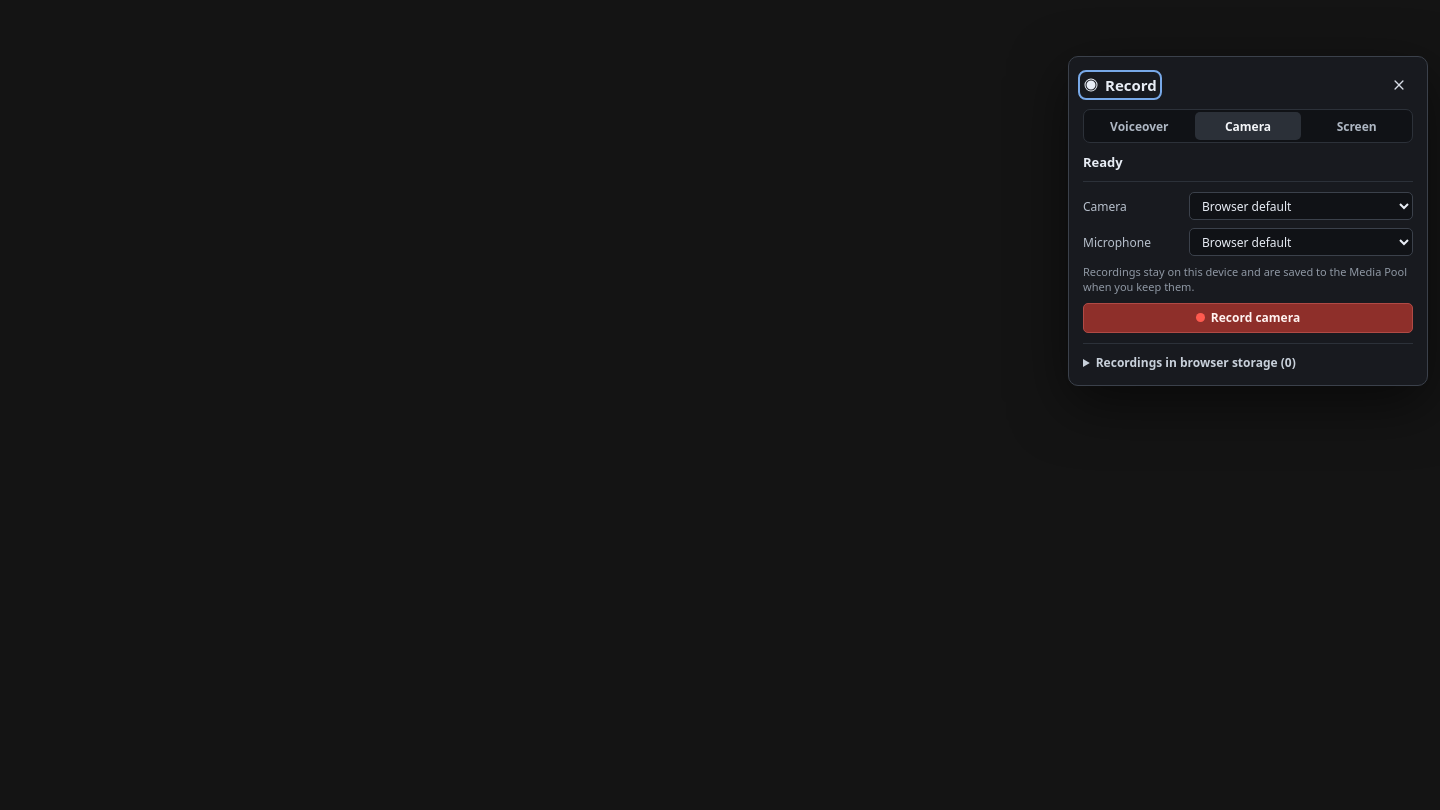
it: Record panel camera and screen tabs › a rejected start is announced
The width and height of the screenshot is (1440, 810).
Click the button "Record camera": [1248, 318] box [1083,303,1413,333]
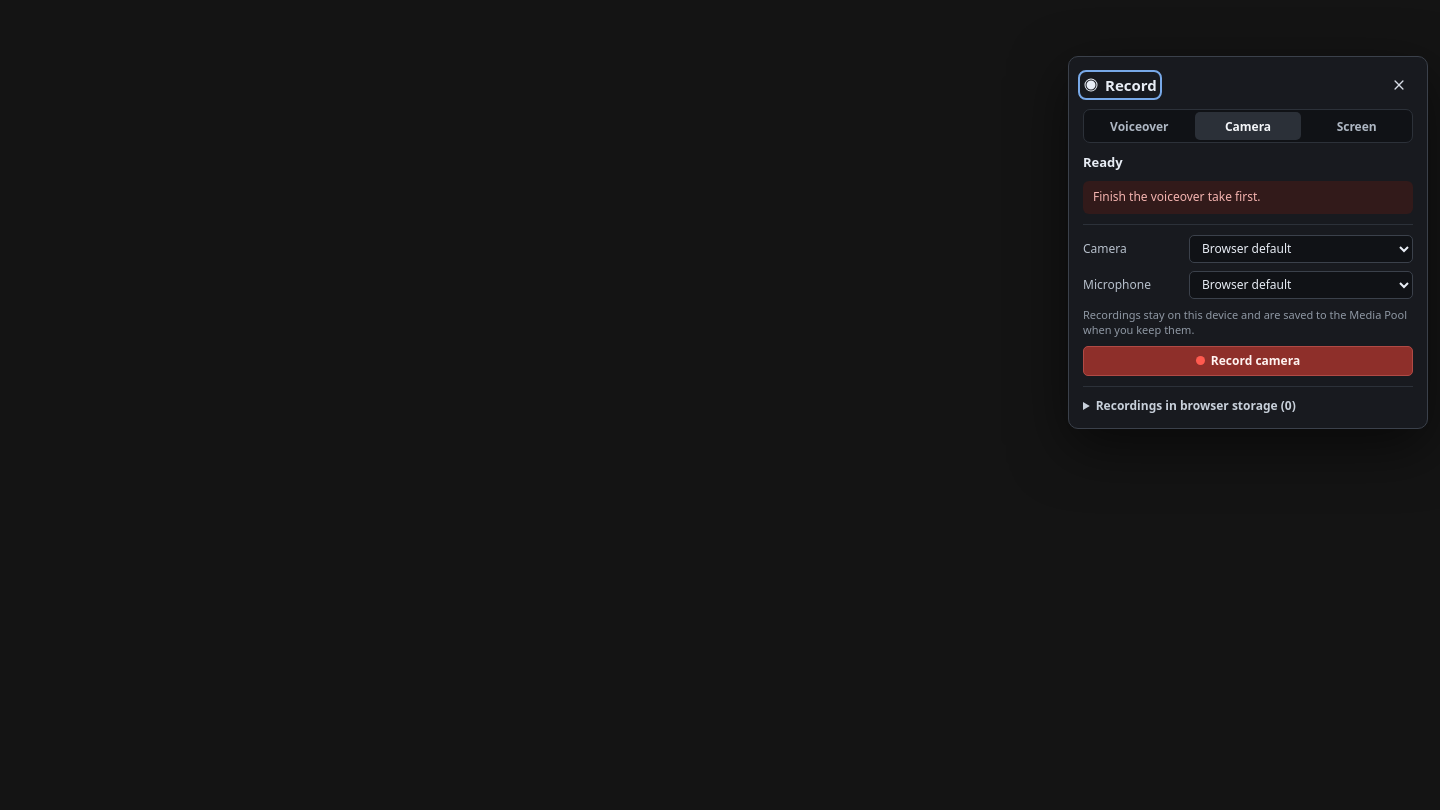
Now the message "Finish the voiceover take first." is shown, box [1083,181,1413,214]
